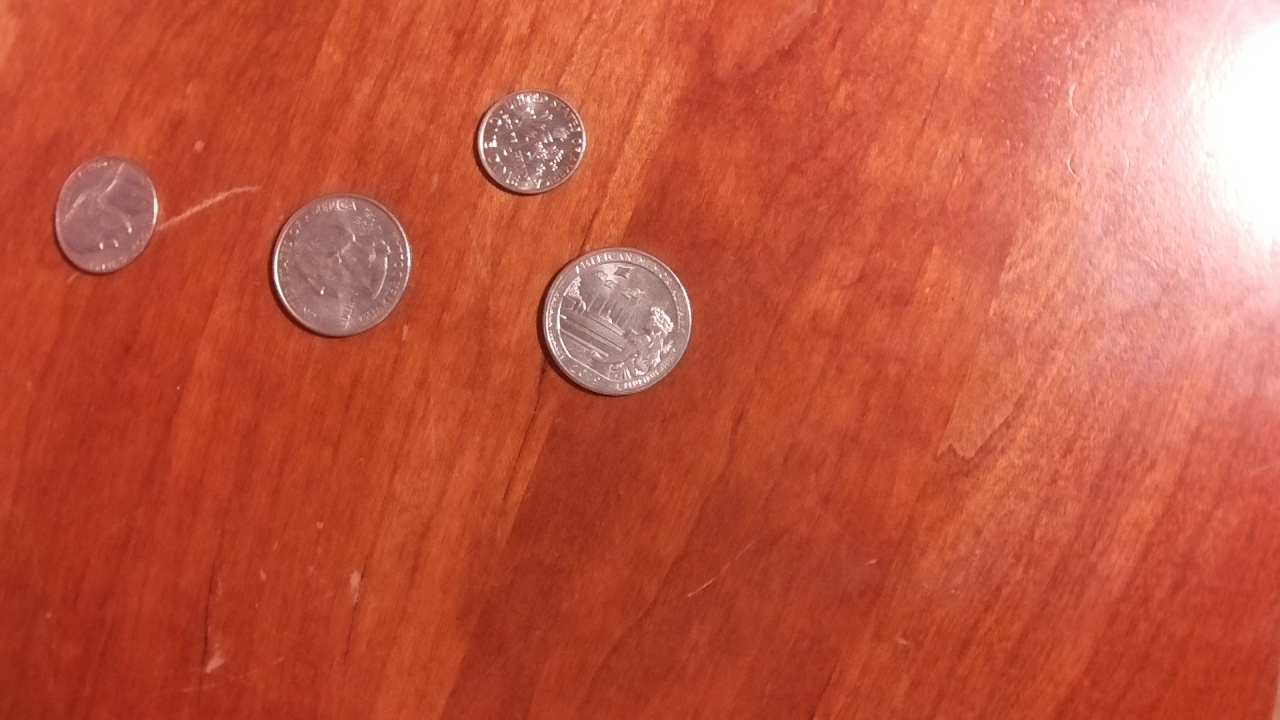dime: (471, 88, 591, 198)
nickel: (51, 152, 159, 280)
quarter: (532, 244, 696, 400), (270, 190, 414, 342)
